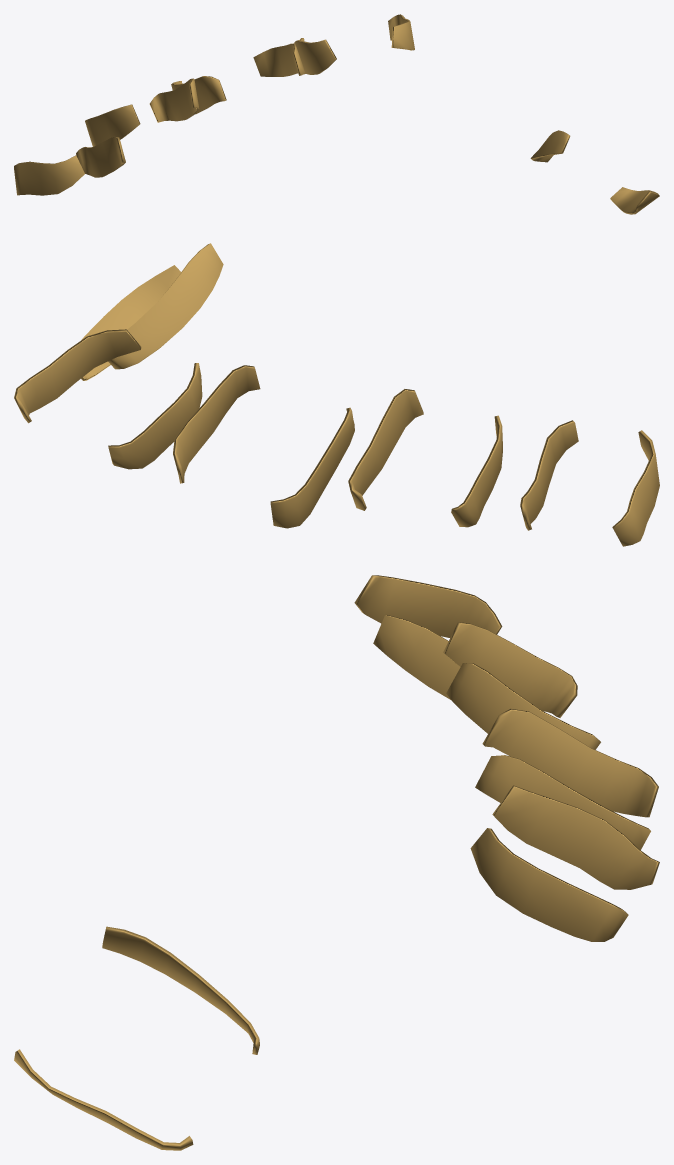
The picture shows the model from 3 angles, top to bottom: view 1: azimuth 30°, elevation 25°; view 2: azimuth 150°, elevation 25°; view 3: azimuth 270°, elevation 25°; orthographic projection. The views are drawn at different scales.
Parts seen in each view (by area): view 1: 左侧掌指关节侧副韧带; view 2: 左侧掌指关节侧副韧带; view 3: 左侧掌指关节侧副韧带.
Boxes of the visible parts, x1,y1,x2,y2 form: 左侧掌指关节侧副韧带: (14, 14, 659, 214); 左侧掌指关节侧副韧带: (14, 243, 659, 546); 左侧掌指关节侧副韧带: (14, 575, 659, 1150).
Size of the model in its own units: 0.1376 by 0.0351 by 0.0907.
